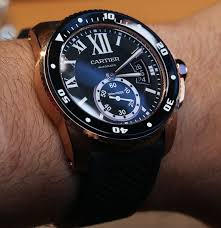clock: (59, 25, 169, 122)
